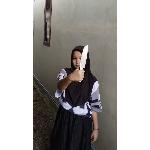Pisau: (71, 42, 93, 86)
